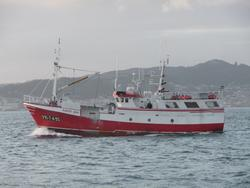otherboat: (20, 39, 229, 134)
